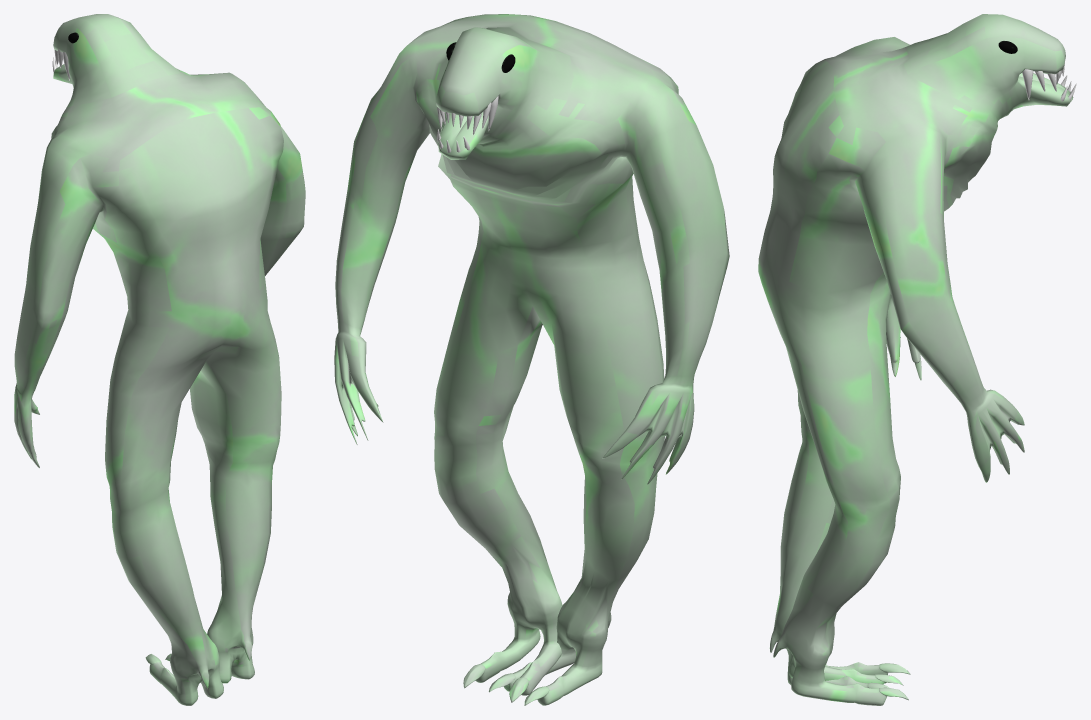
The model's file is Berserkerandar.0019.obj.
3 renders of one model, left to right at view 1: azimuth 30°, elevation 25°; view 2: azimuth 150°, elevation 25°; view 3: azimuth 270°, elevation 25°, orthographic. The views are drawn at different scales.
Parts seen in each view (by area): view 1: polySurface27; view 2: polySurface27; view 3: polySurface27.
Boxes of the visible parts, box(x1,y1,x2,y2) form: polySurface27: box(14, 14, 305, 705); polySurface27: box(334, 14, 729, 705); polySurface27: box(758, 14, 1076, 705).
Bounding box in the file's own units: 11.62 × 23.34 × 10.17.
Materials: 1 (1 with a texture image).
